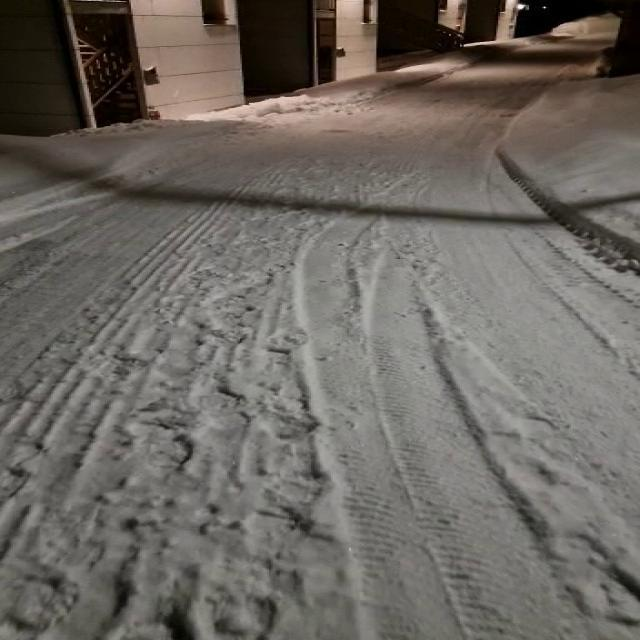path: (0, 37, 638, 640)
